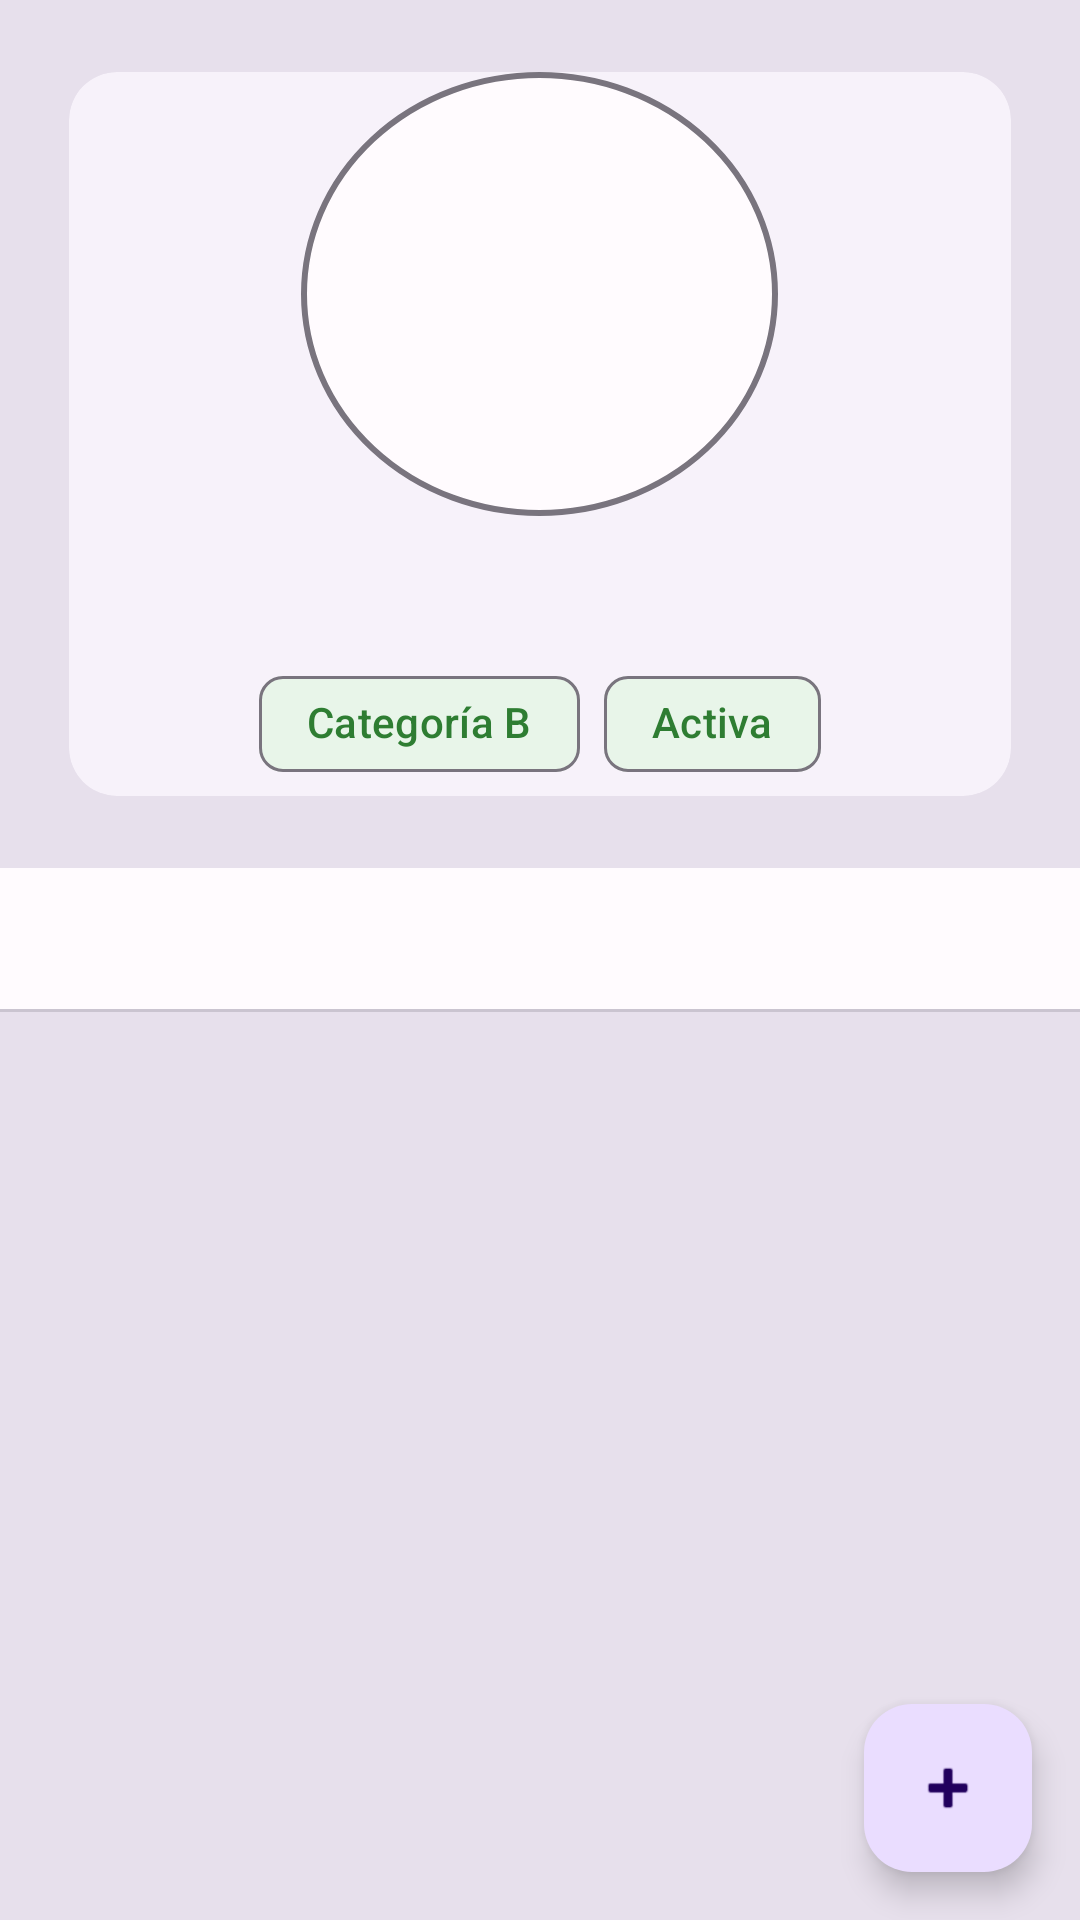

Point at icon controls on the screen. Image size 1080w x 1920h, points as point (x, y).
Nueva Evaluación: point (948, 1788)
